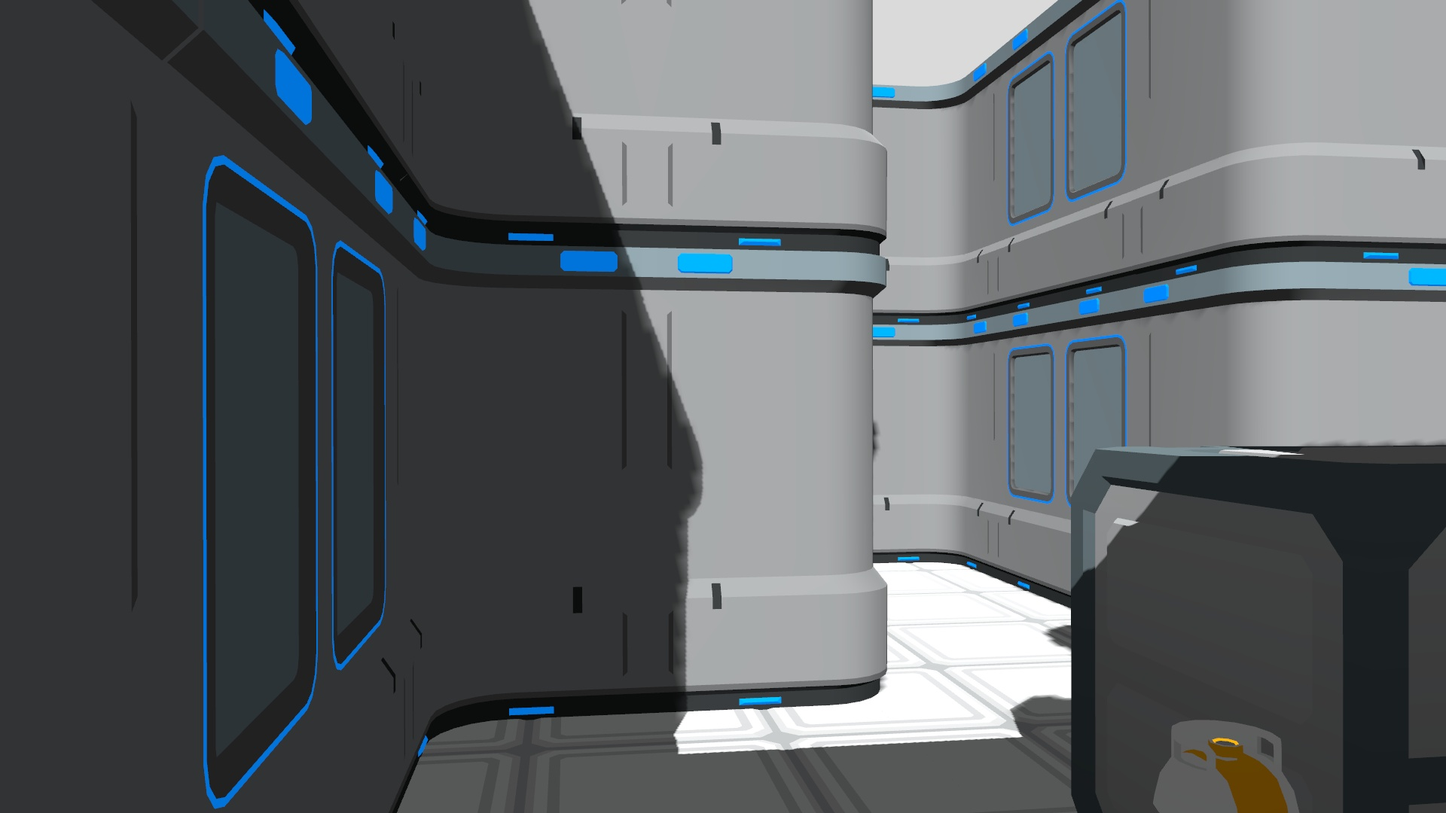yellow_barrel: (1145, 717, 1306, 813)
